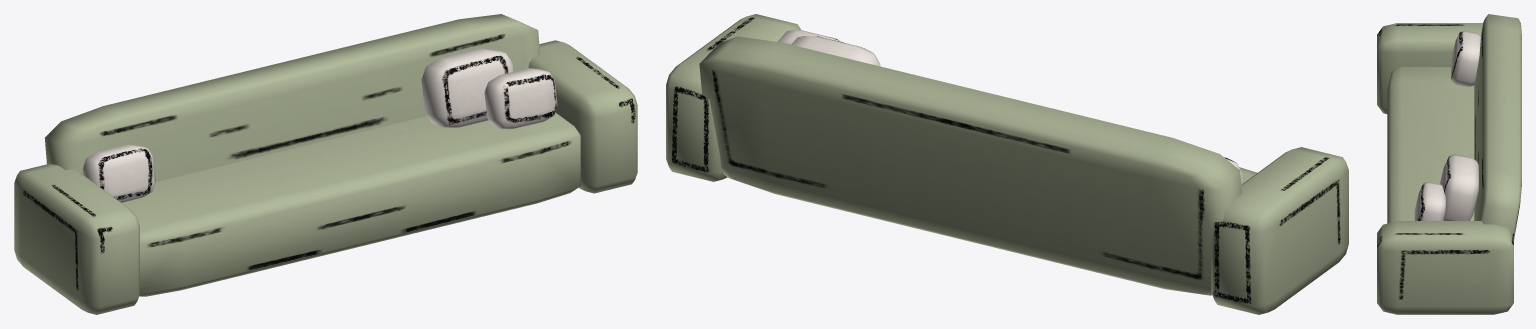
Rendered from 20s_Sofa.fbx.
The picture shows the model from 3 angles, left to right: view 1: azimuth 30°, elevation 25°; view 2: azimuth 150°, elevation 25°; view 3: azimuth 270°, elevation 25°; orthographic projection. The views are drawn at different scales.
Visible parts, largest first — view 1: 20s_Sofa; view 2: 20s_Sofa; view 3: 20s_Sofa.
Part boxes in pixels (x1=…): 20s_Sofa: x1=14, y1=14, x2=637, y2=314; 20s_Sofa: x1=666, y1=14, x2=1348, y2=314; 20s_Sofa: x1=1377, y1=14, x2=1521, y2=314.
Size of the model in its own units: 760 by 178 by 212.
1 material, 1 textured.
